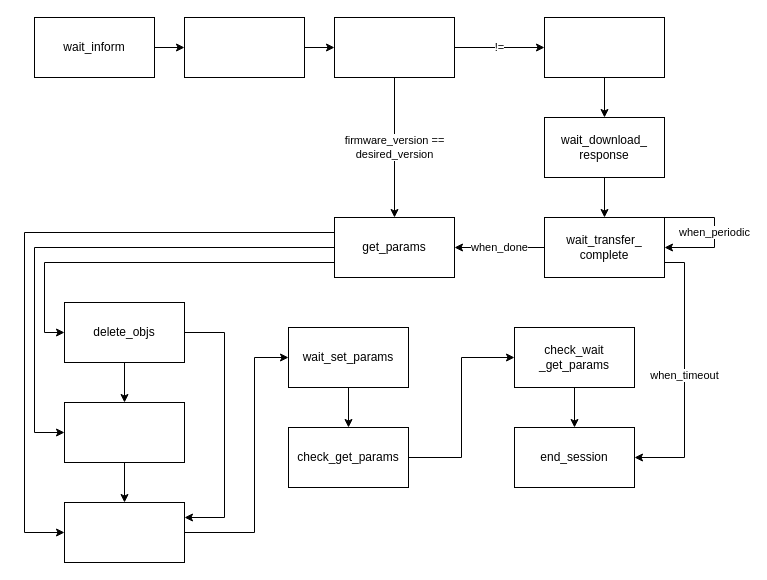
Image size: 767x580. Some labels were removed from this diagram. The shapes that lost their labels are listed below. From the top down, each one's box as (x1, y1, x2, y2) in pixels, then its label:
(184, 16, 304, 78): get_rpc_methods
(334, 16, 454, 78): get_transient_params
(544, 16, 664, 78): firmware_upgrade
(64, 402, 184, 462): add_objs
(64, 502, 184, 562): set_params
